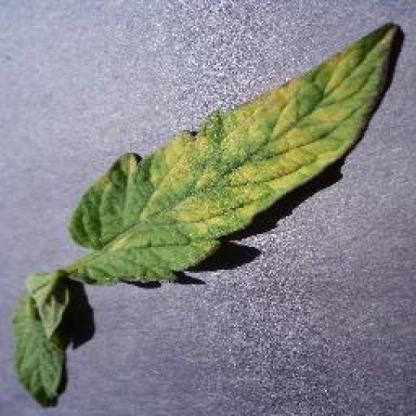Tomato_Leaf_Mold: (72, 21, 396, 291)
